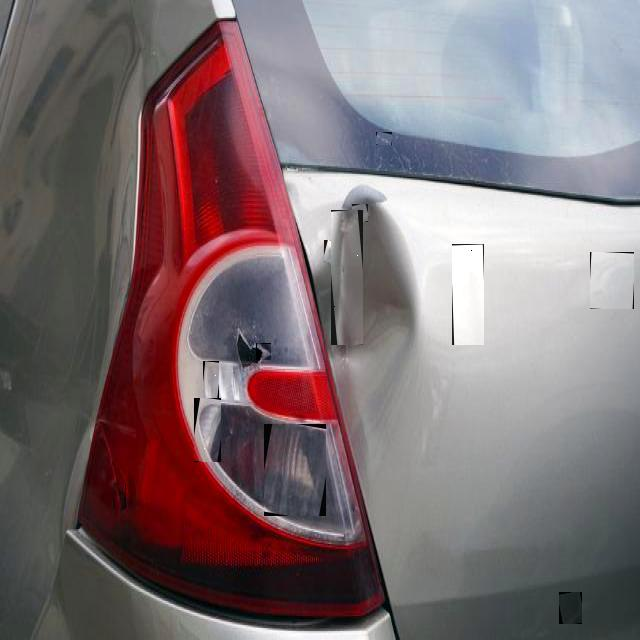Dent: (264, 424, 326, 516), (331, 210, 363, 345), (452, 244, 484, 345), (590, 252, 634, 309), (194, 398, 221, 462), (559, 592, 582, 624), (216, 362, 233, 402), (203, 361, 219, 402), (352, 204, 368, 222), (114, 484, 126, 508), (256, 343, 271, 360), (341, 214, 356, 231), (376, 132, 392, 145), (324, 240, 333, 262)
